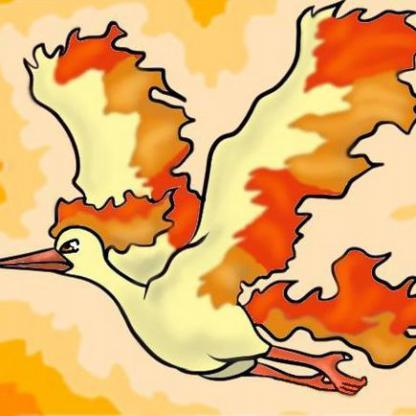Moltres: (1, 36, 416, 416)
